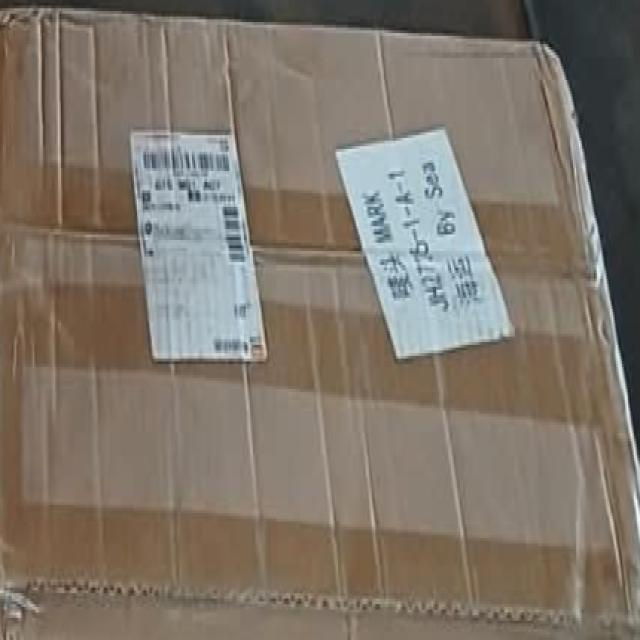carton_box: (1, 1, 640, 640)
export_mark_label: (332, 121, 537, 382), (124, 119, 272, 377)
package_damage: (1, 548, 50, 640), (0, 0, 65, 56)
